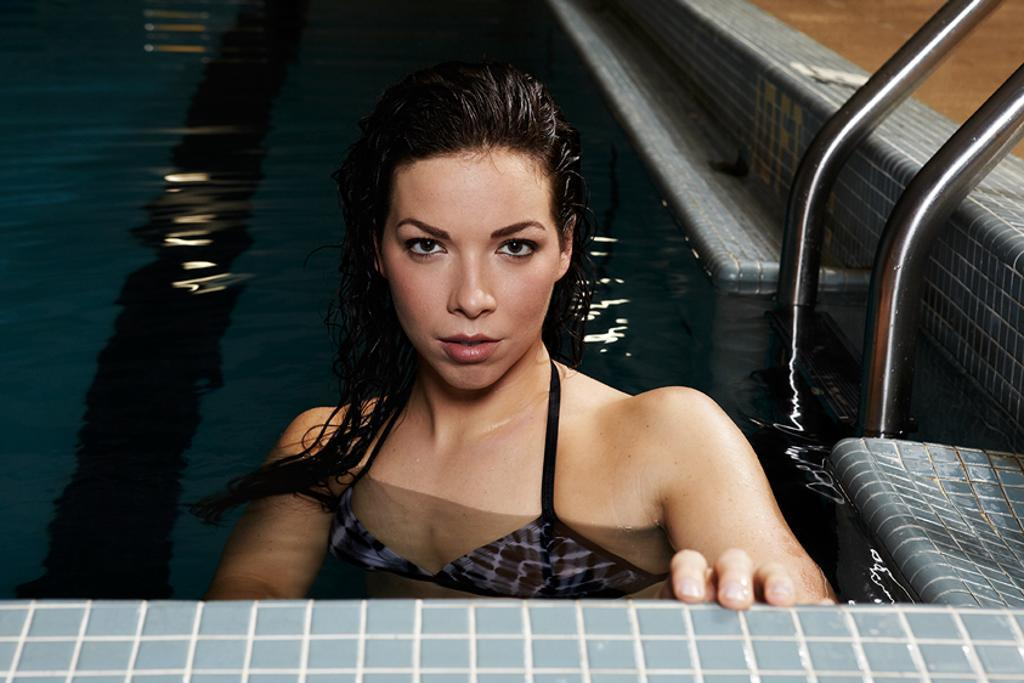face: (387, 173, 557, 389)
